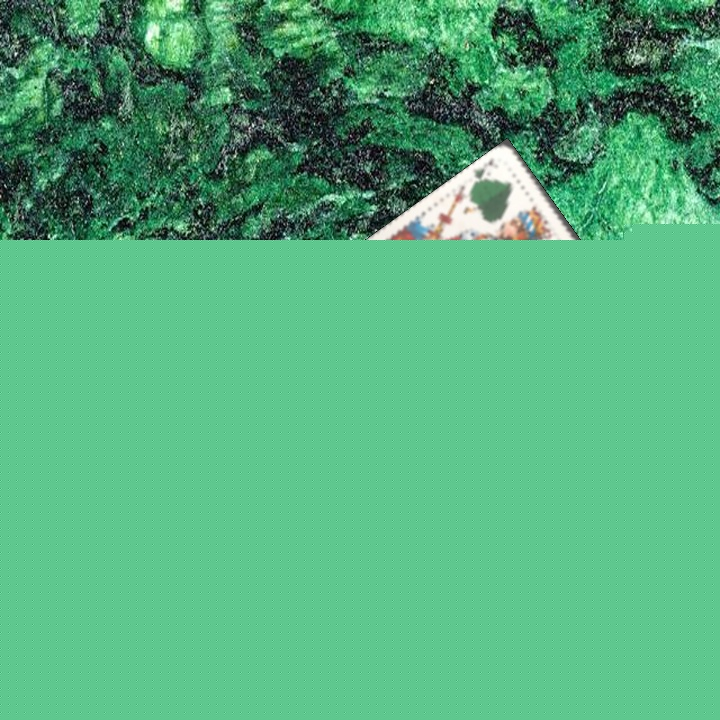GK: (469, 155, 496, 186), (382, 365, 411, 388)
SA: (506, 286, 531, 327), (536, 507, 559, 546)
